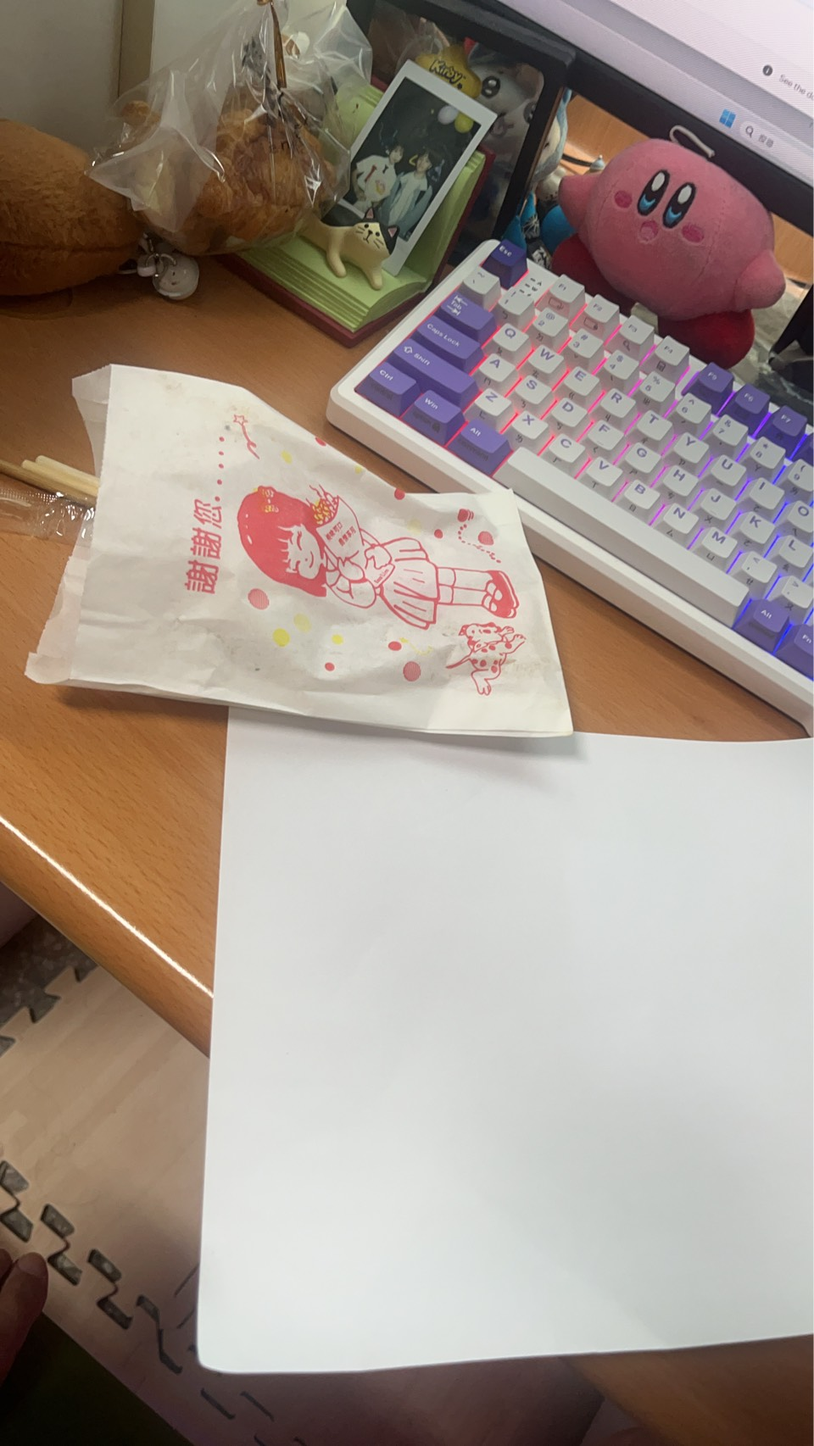paper: (141, 670, 814, 1390), (0, 325, 605, 771)
